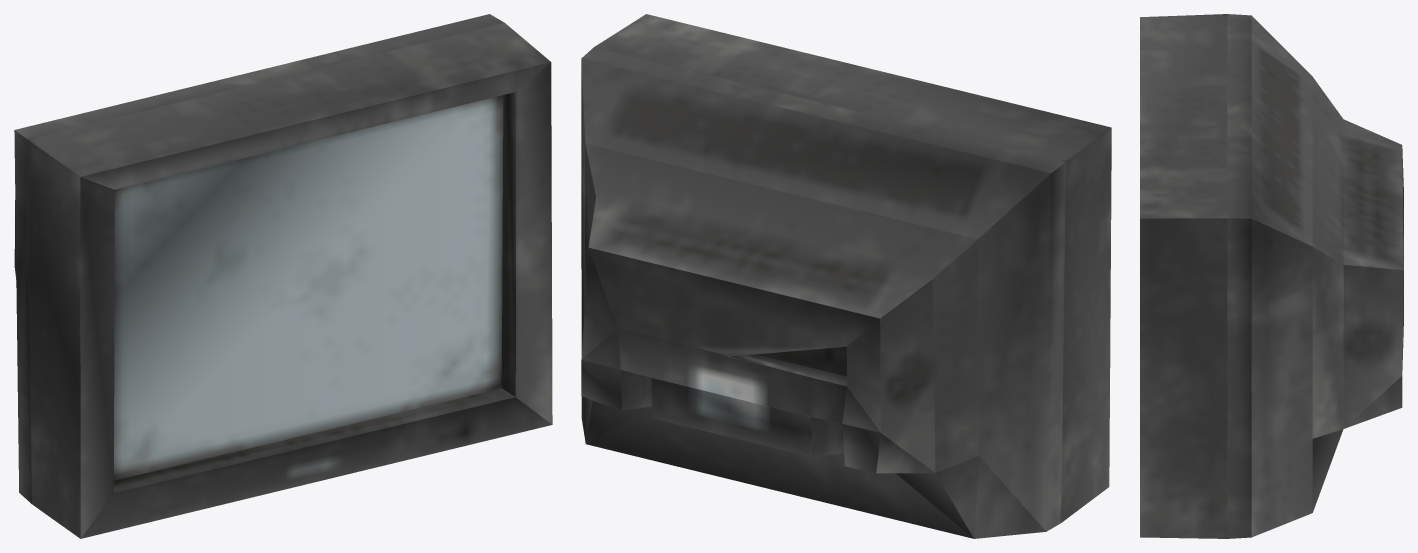
3 views of the same model, side by side, from view 1: azimuth 30°, elevation 25°; view 2: azimuth 150°, elevation 25°; view 3: azimuth 270°, elevation 25° (orthographic). The views are drawn at different scales.
Parts seen in each view (by area): view 1: tv; view 2: tv; view 3: tv.
Part boxes in pixels (x1,y1,x2,y2): tv: [14, 14, 552, 538]; tv: [581, 14, 1111, 538]; tv: [1140, 14, 1403, 538].
Bounding box in the file's own units: 1.53 × 1.12 × 0.8354.
Materials: 1 (1 with a texture image).
